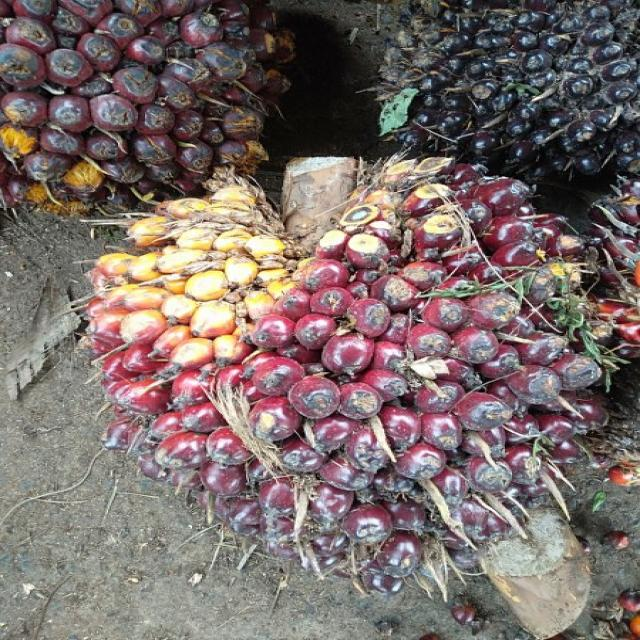fraksi 1: (83, 151, 636, 574)
